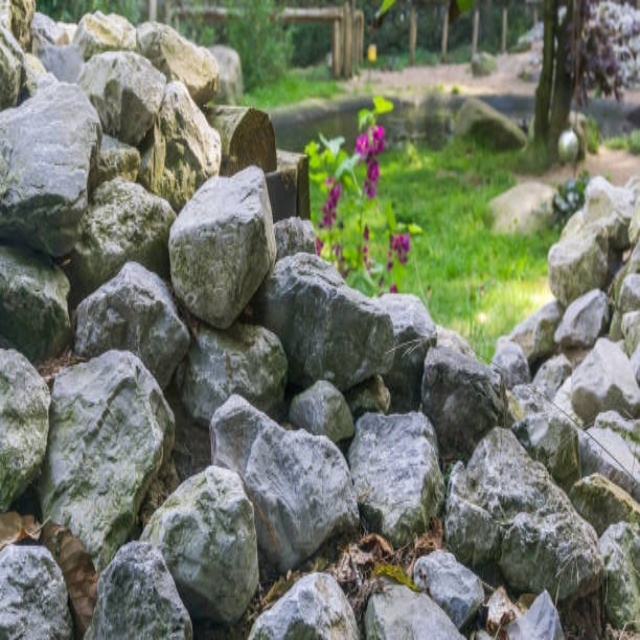obstacle: (0, 0, 639, 638)
